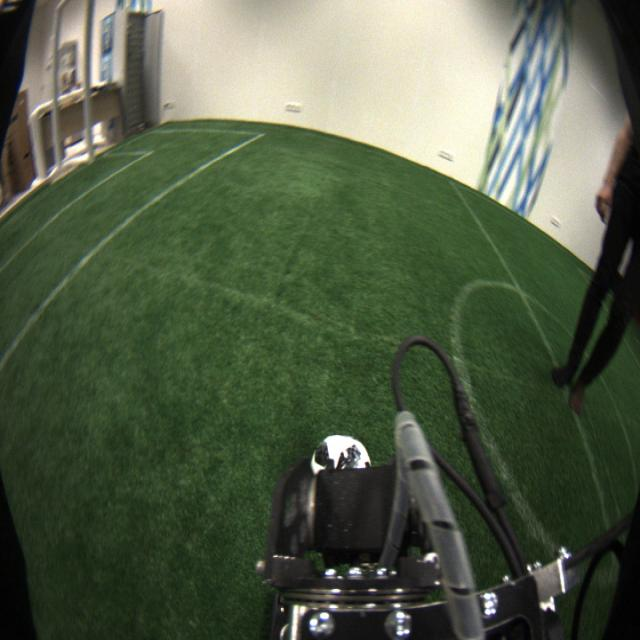ball: (308, 430, 374, 490)
goalpost: (83, 0, 96, 164)
